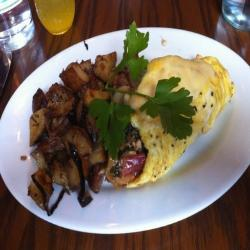omelette: (115, 52, 235, 192)
